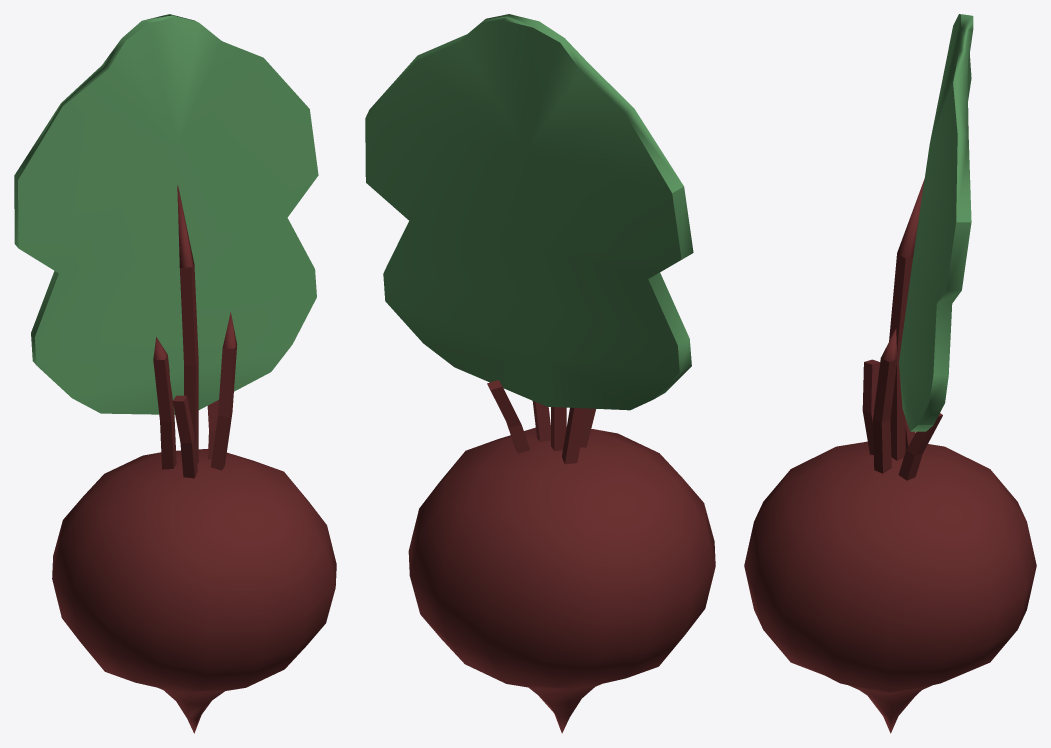
File: BeetMerged.fbx
The picture shows the model from 3 angles, left to right: view 1: azimuth 30°, elevation 25°; view 2: azimuth 150°, elevation 25°; view 3: azimuth 270°, elevation 25°; orthographic projection. The views are drawn at different scales.
Visible parts, largest first — view 1: Beet; view 2: Beet; view 3: Beet.
Part boxes in pixels (<box>): Beet: <box>14,14,336,733</box>; Beet: <box>365,14,715,733</box>; Beet: <box>744,14,1036,733</box>.
Size of the model in its own units: 1.08 by 2.36 by 0.8785.
